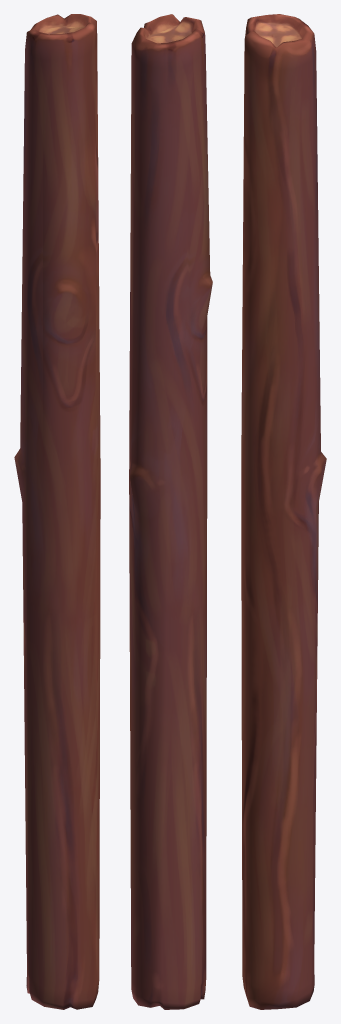
Rendered from Ship_Pole02_mesh.fbx.
The picture shows the model from 3 angles, left to right: view 1: azimuth 90°, elevation 25°; view 2: azimuth 150°, elevation 25°; view 3: azimuth 270°, elevation 25°; orthographic projection.
Parts seen in each view (by area): view 1: Ship_Pole02_mesh; view 2: Ship_Pole02_mesh; view 3: Ship_Pole02_mesh.
Part boxes in pixels (box(x1,y1,x2,y2)): Ship_Pole02_mesh: box(14, 14, 100, 1009); Ship_Pole02_mesh: box(129, 14, 212, 1009); Ship_Pole02_mesh: box(241, 14, 326, 1009).
Size of the model in its own units: 0.5296 by 6.56 by 0.5217.
